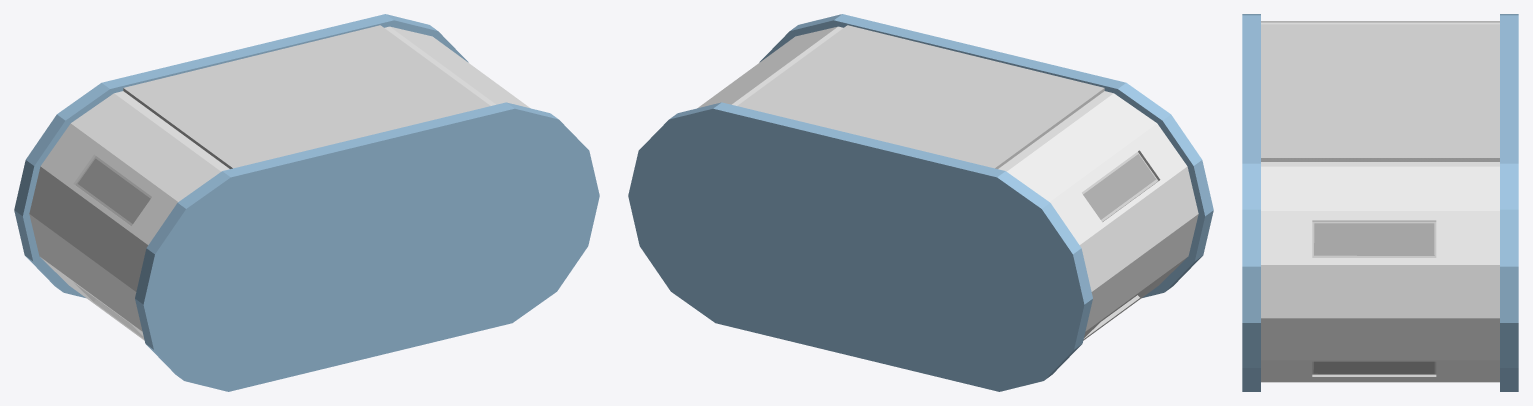
3 renders of one model, left to right at view 1: azimuth 30°, elevation 25°; view 2: azimuth 150°, elevation 25°; view 3: azimuth 270°, elevation 25°, orthographic. The views are drawn at different scales.
Visible parts, largest first — view 1: Cylinder_7; view 2: Cylinder_7; view 3: Cylinder_7.
Part boxes in pixels (bbox=[...]): Cylinder_7: bbox=[14, 14, 599, 391]; Cylinder_7: bbox=[628, 14, 1213, 391]; Cylinder_7: bbox=[1242, 14, 1518, 391].
Bounding box in the file's own units: 975 × 438 × 479.
